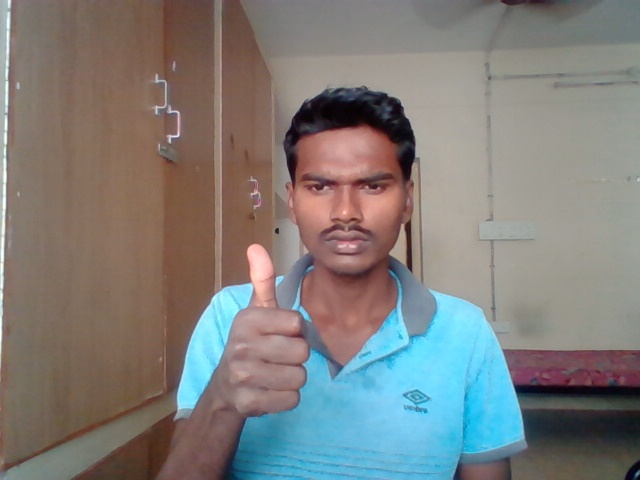Yes: (213, 239, 314, 420)
